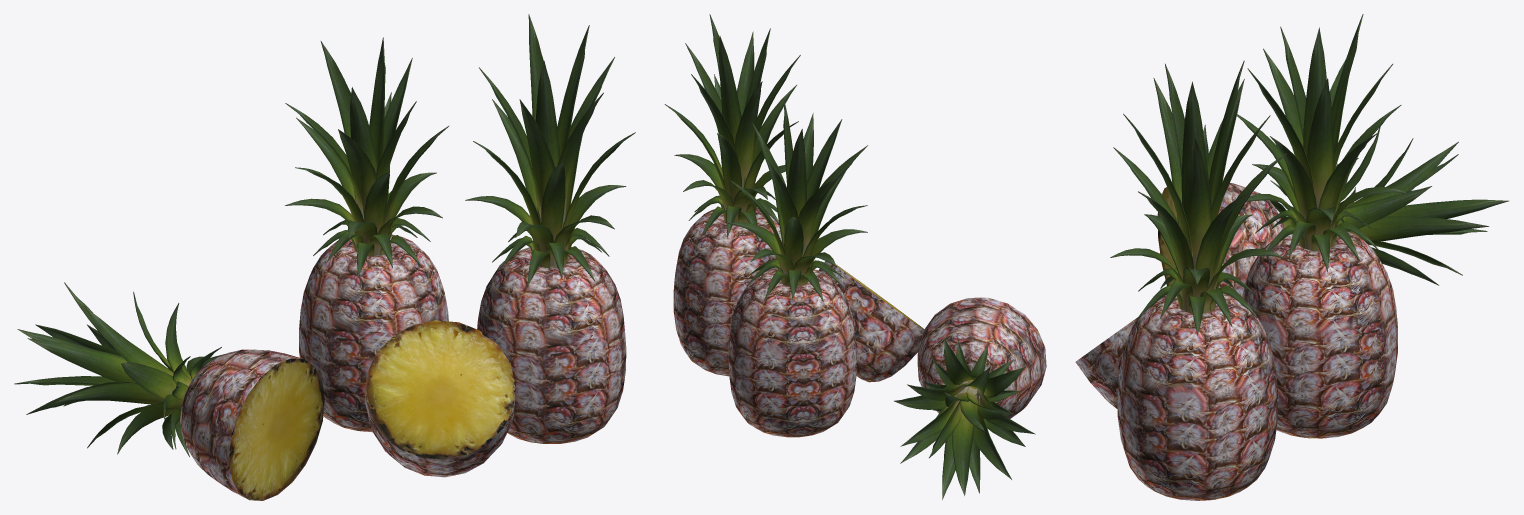
Rendered from Ananas.fbx.
3 renders of one model, left to right at view 1: azimuth 30°, elevation 25°; view 2: azimuth 150°, elevation 25°; view 3: azimuth 270°, elevation 25°, orthographic. The views are drawn at different scales.
Parts seen in each view (by area): view 1: 1657.max; view 2: 1657.max; view 3: 1657.max.
Part boxes in pixels (<box>): 1657.max: <box>14,14,635,500</box>; 1657.max: <box>664,14,1046,499</box>; 1657.max: <box>1075,14,1508,500</box>.
Bounding box in the file's own units: 8835 × 6724 × 6286.
4 materials, 4 textured.
